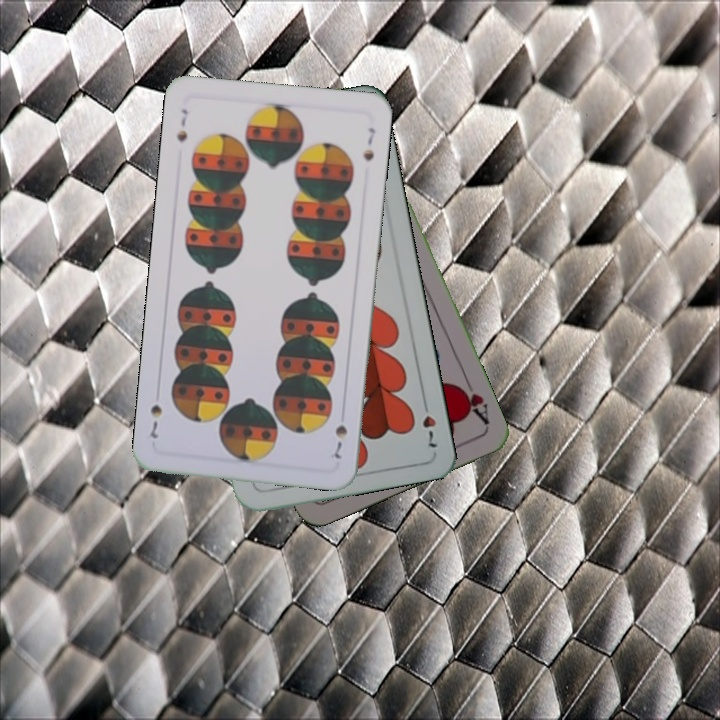H7: (418, 394, 439, 453)
HA: (452, 374, 493, 428)
S7: (330, 421, 350, 462), (172, 105, 191, 145)
